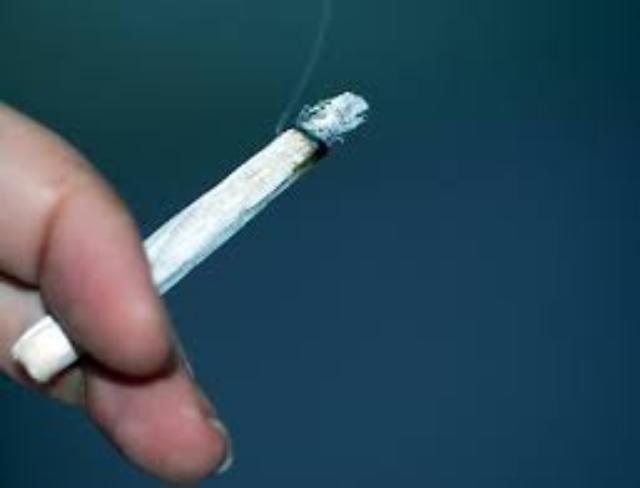Cigarette: (11, 89, 371, 385)
